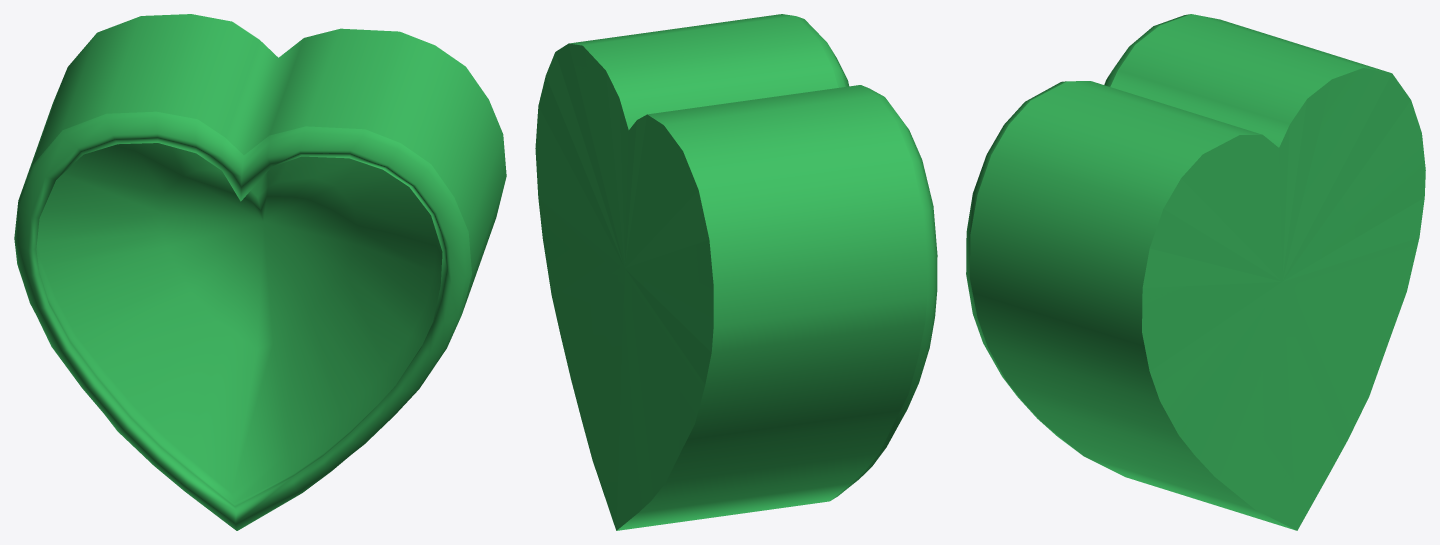
File: BL3_8shapes_heart_Classic_Metal.001 2.glb
3 views of the same model, side by side, from view 1: azimuth 30°, elevation 25°; view 2: azimuth 150°, elevation 25°; view 3: azimuth 270°, elevation 25° (orthographic). The views are drawn at different scales.
Visible parts, largest first — view 1: BL3_8shapes_heart_Classic_Metal.001; view 2: BL3_8shapes_heart_Classic_Metal.001; view 3: BL3_8shapes_heart_Classic_Metal.001.
Boxes of the visible parts, <box> form: BL3_8shapes_heart_Classic_Metal.001: <box>14,14,506,530</box>; BL3_8shapes_heart_Classic_Metal.001: <box>535,14,937,530</box>; BL3_8shapes_heart_Classic_Metal.001: <box>966,14,1425,530</box>.
Bounding box in the file's own units: 0.5598 × 0.5211 × 0.51.
